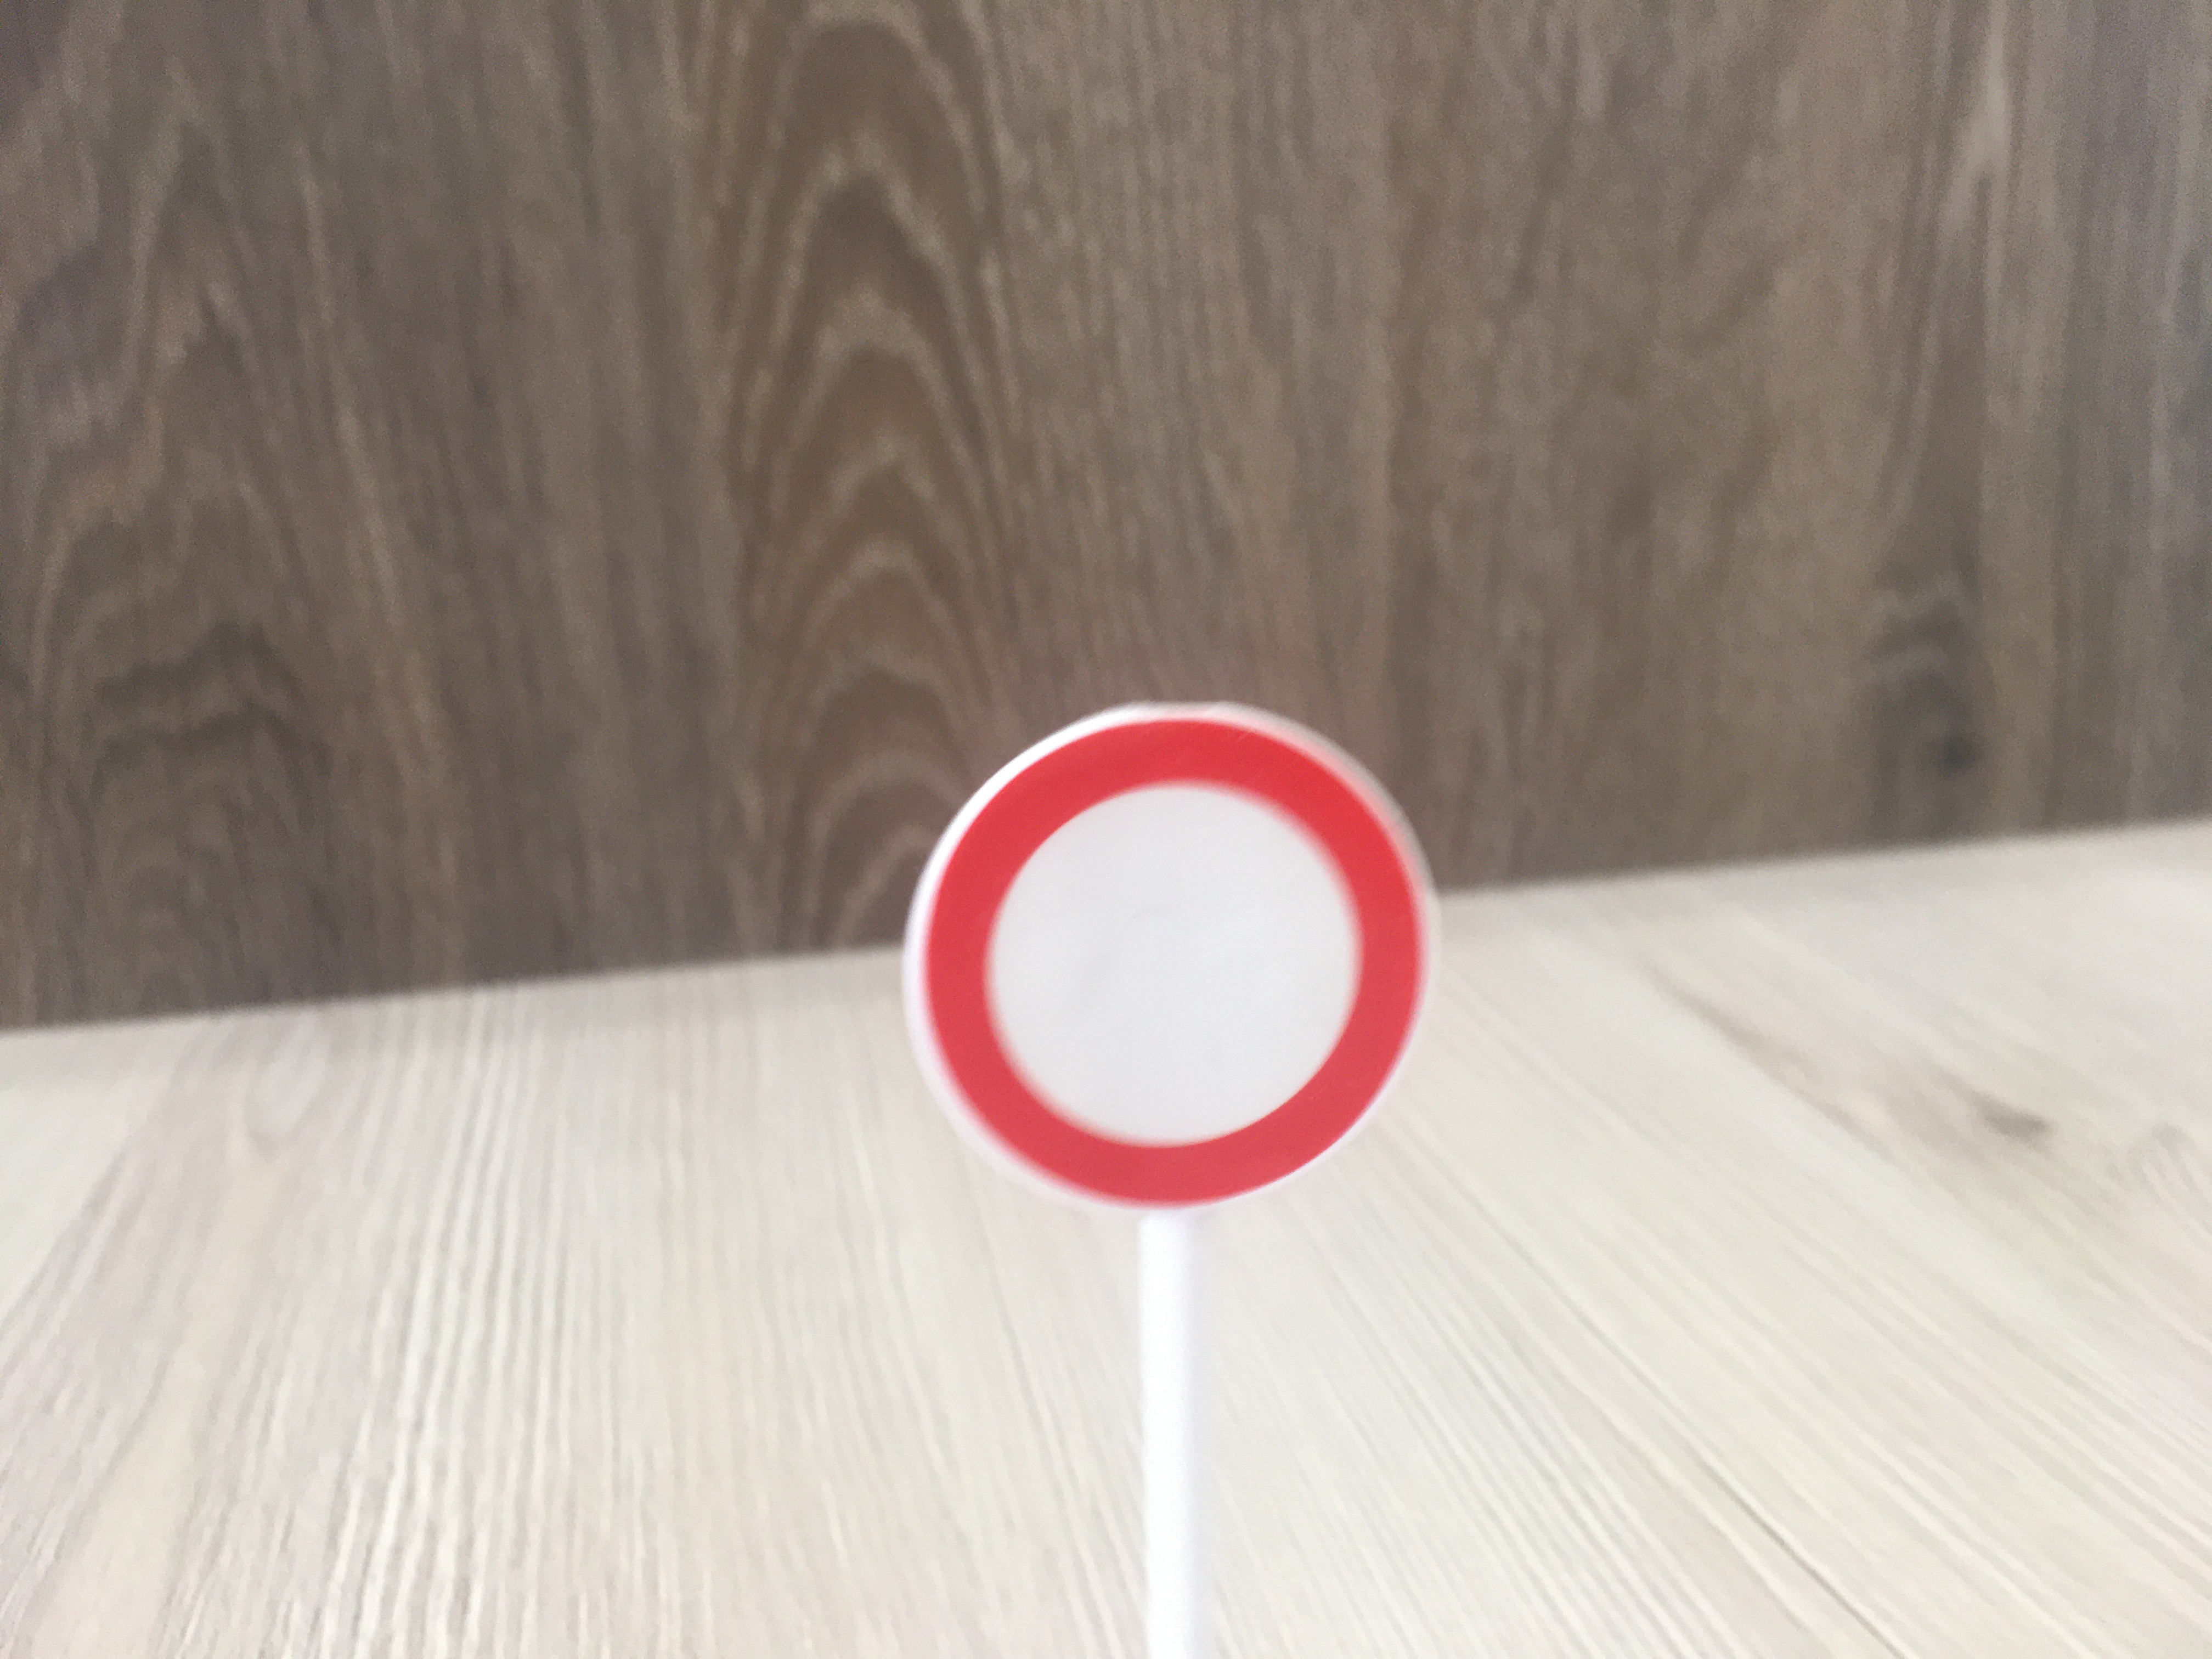noDrive: (899, 708, 1453, 1218)
